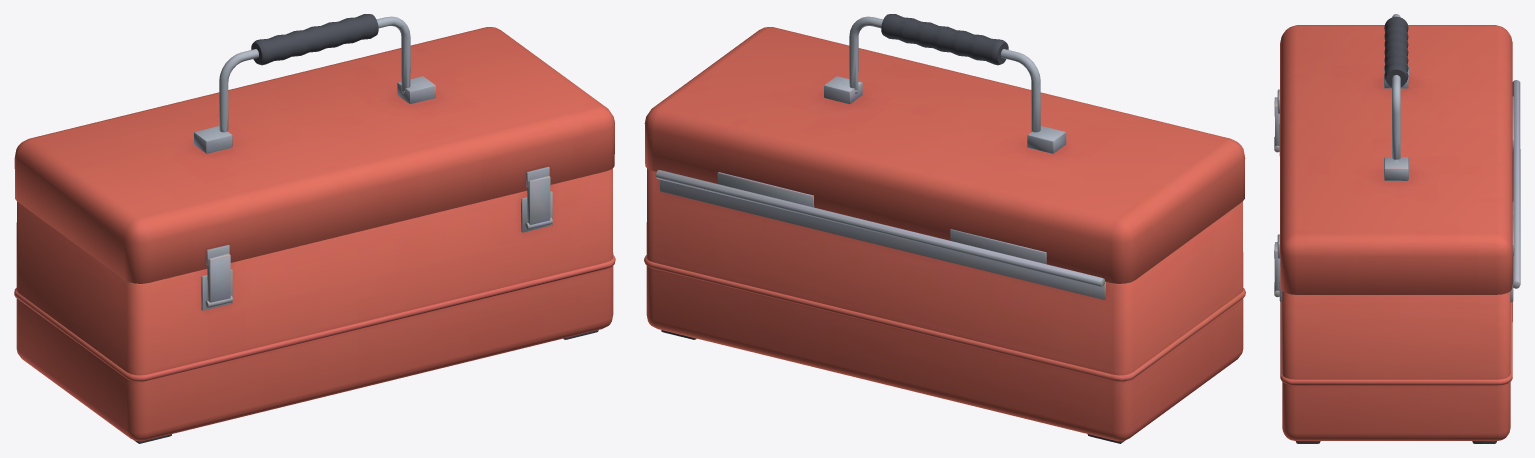
File: toolbox.glb
3 views of the same model, side by side, from view 1: azimuth 30°, elevation 25°; view 2: azimuth 150°, elevation 25°; view 3: azimuth 270°, elevation 25° (orthographic). The views are drawn at different scales.
Parts seen in each view (by area): view 1: toolbox_body, toolbox_lid, toolbox_carry_handle; view 2: toolbox_body, toolbox_lid, toolbox_carry_handle; view 3: toolbox_lid, toolbox_body, toolbox_carry_handle.
Boxes of the visible parts, box(x1,y1,x2,y2) form: toolbox_body: box(14, 168, 615, 443); toolbox_lid: box(14, 27, 614, 283); toolbox_carry_handle: box(219, 14, 416, 132); toolbox_body: box(644, 168, 1245, 443); toolbox_lid: box(644, 27, 1245, 283); toolbox_carry_handle: box(843, 14, 1040, 132); toolbox_lid: box(1277, 25, 1514, 294); toolbox_body: box(1274, 80, 1520, 443); toolbox_carry_handle: box(1384, 14, 1408, 162).
Bounding box in the file's own units: 0.5042 × 0.3175 × 0.2373.
4 materials, 2 textured.
